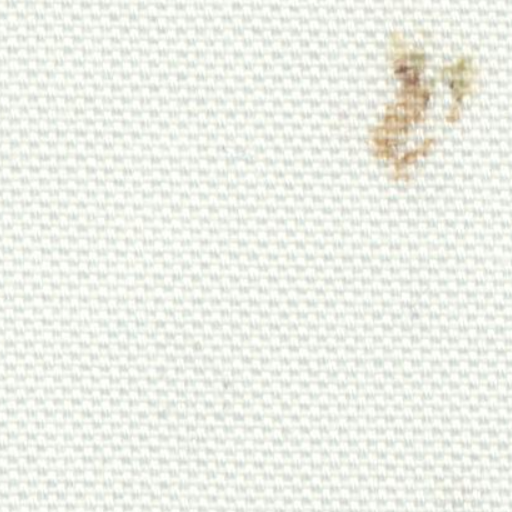WuZi: (350, 20, 489, 190)
